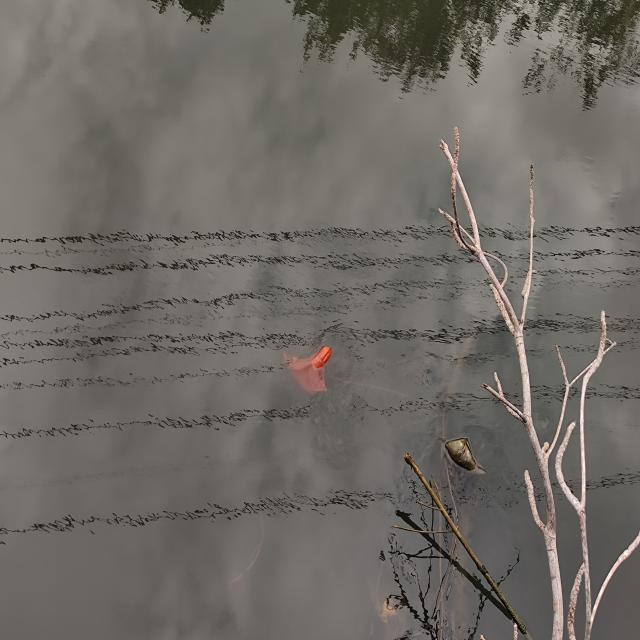Kantong Plastik: (279, 337, 335, 399)
